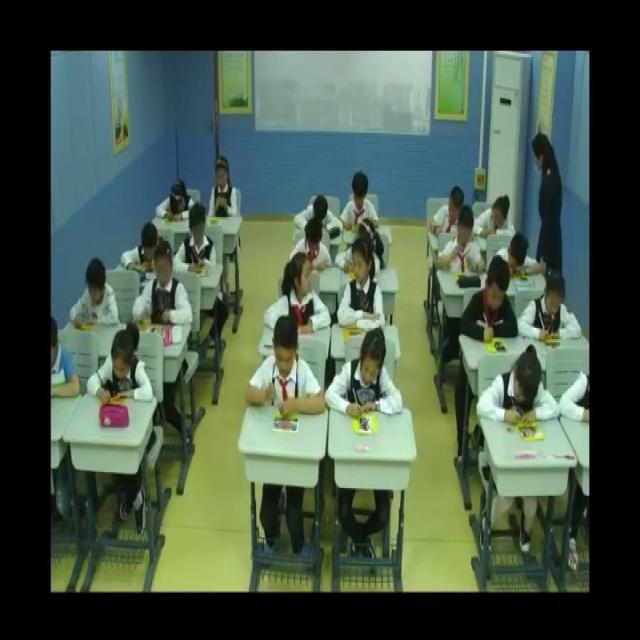distracted: (264, 261, 331, 335), (336, 242, 386, 336)
focused: (324, 324, 408, 431), (246, 326, 328, 420), (478, 346, 562, 425), (87, 324, 154, 410), (518, 264, 584, 351), (460, 257, 520, 346), (134, 242, 196, 328), (70, 258, 120, 336), (437, 204, 485, 278), (178, 205, 217, 278), (343, 172, 383, 236), (291, 216, 331, 278), (120, 222, 164, 277), (295, 195, 344, 240), (208, 154, 238, 227), (430, 185, 465, 243), (155, 182, 201, 226), (473, 192, 515, 239), (498, 234, 537, 283)
